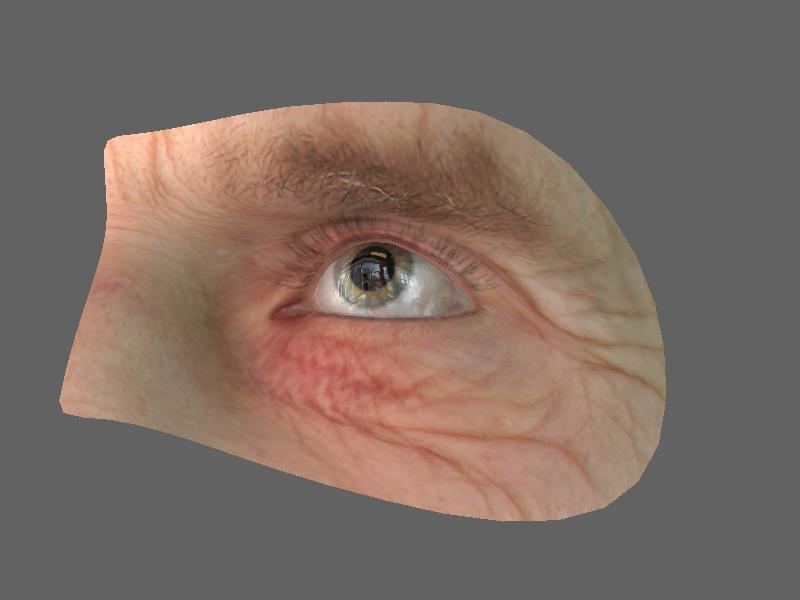iris: (331, 242, 424, 311)
